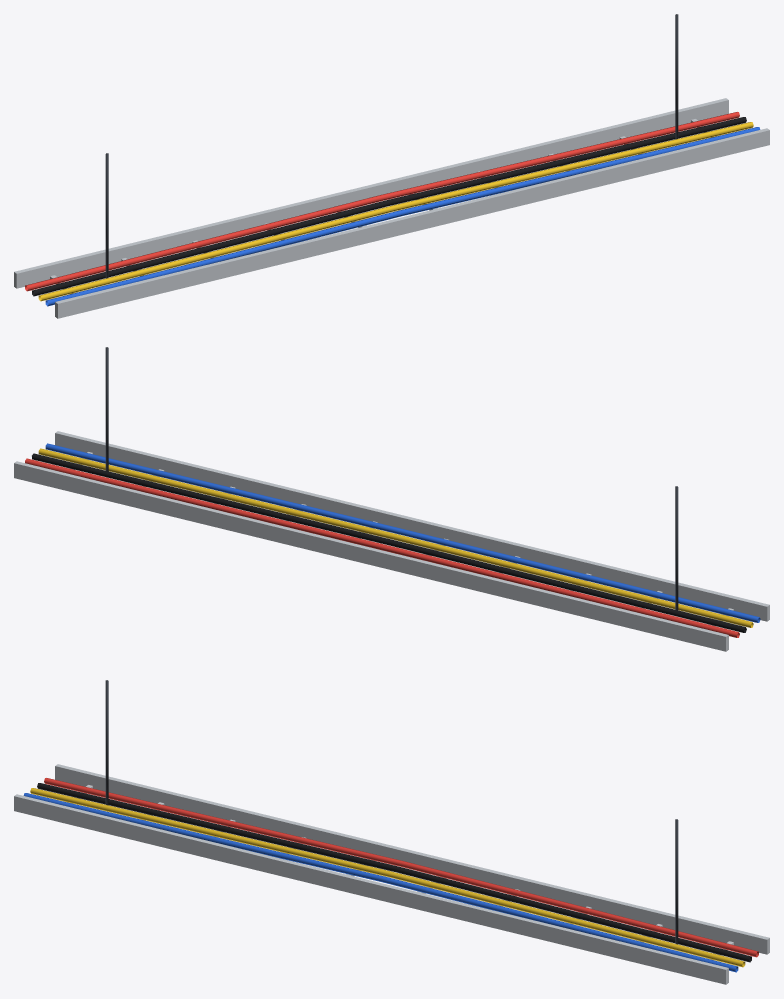
Rendered from CableTray.fbx.
The picture shows the model from 3 angles, top to bottom: view 1: azimuth 30°, elevation 25°; view 2: azimuth 150°, elevation 25°; view 3: azimuth 330°, elevation 25°; orthographic projection.
Visible parts, largest first — view 1: CableTrayBody; view 2: CableTrayBody; view 3: CableTrayBody.
Part boxes in pixels (box(x1,y1,x2,y2)): CableTrayBody: box(14, 14, 769, 318); CableTrayBody: box(14, 347, 769, 651); CableTrayBody: box(14, 680, 769, 984).
Size of the model in its own units: 3 by 0.53 by 0.32.
